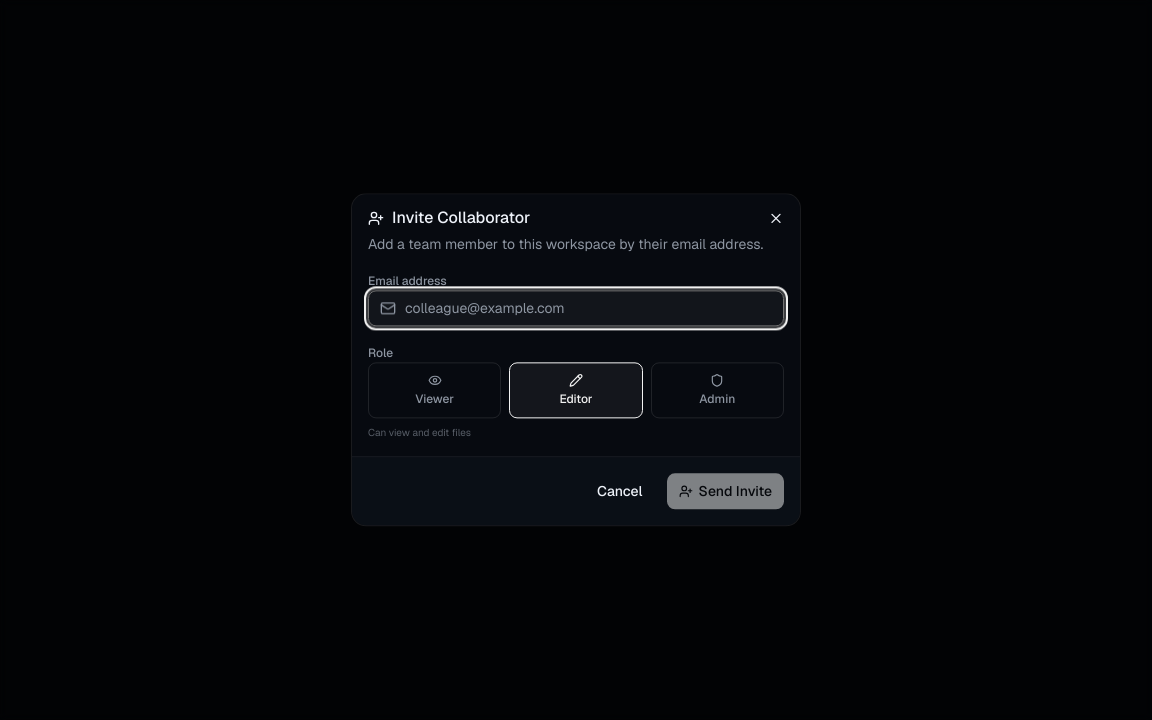
InviteCollaboratorDialog › allows selecting a different role
Click the button "Viewer" at (435, 390), box [368, 362, 501, 418]
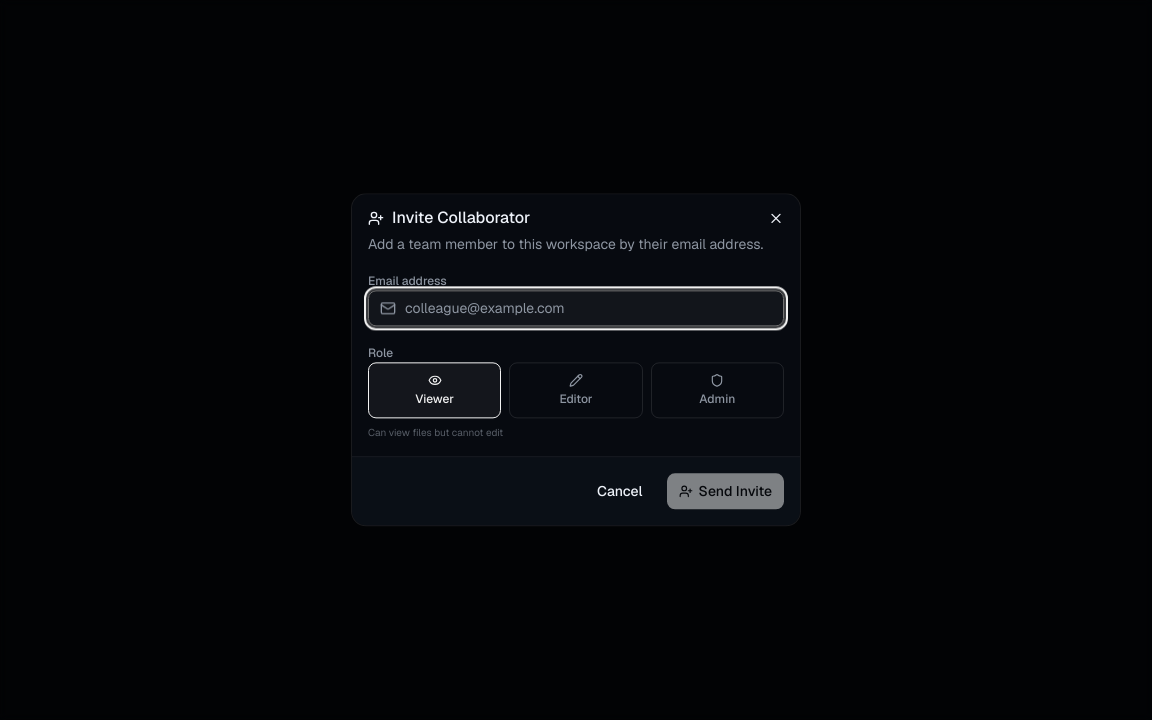
Now the button "Viewer" has class "border-primary", box [368, 362, 501, 418]
